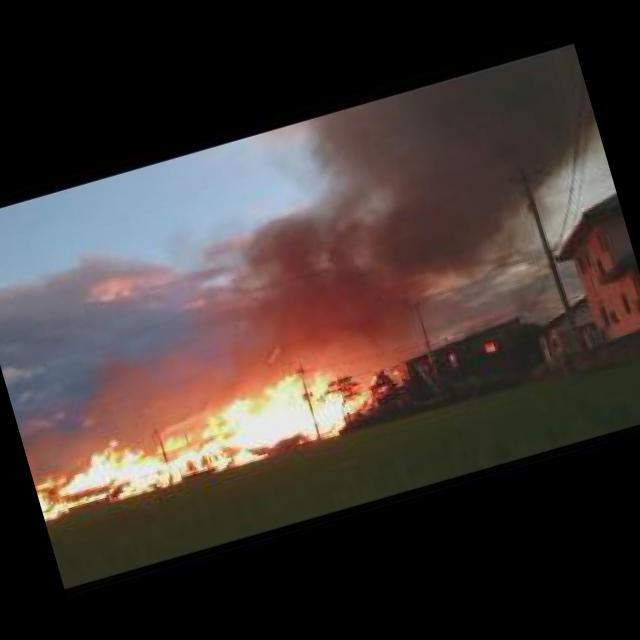fire: (24, 350, 392, 521), (487, 341, 498, 352), (391, 366, 400, 376)
smoke: (186, 38, 640, 384), (73, 322, 219, 449)
